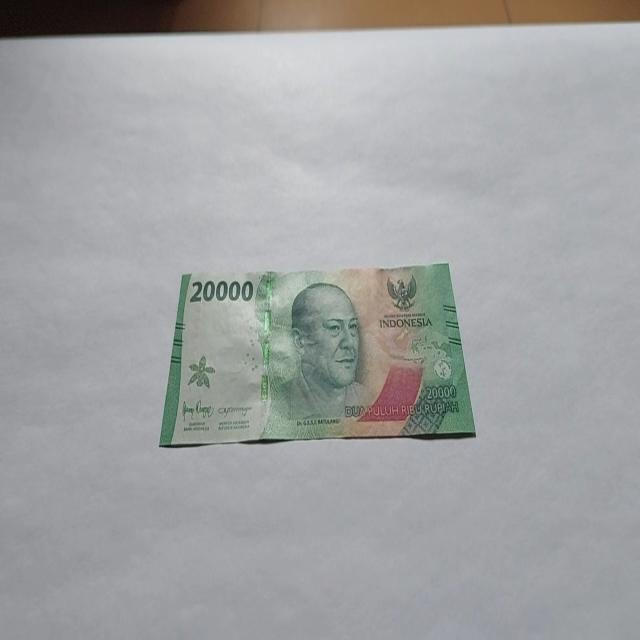dua puluh ribu rupiah: (158, 261, 476, 448)
